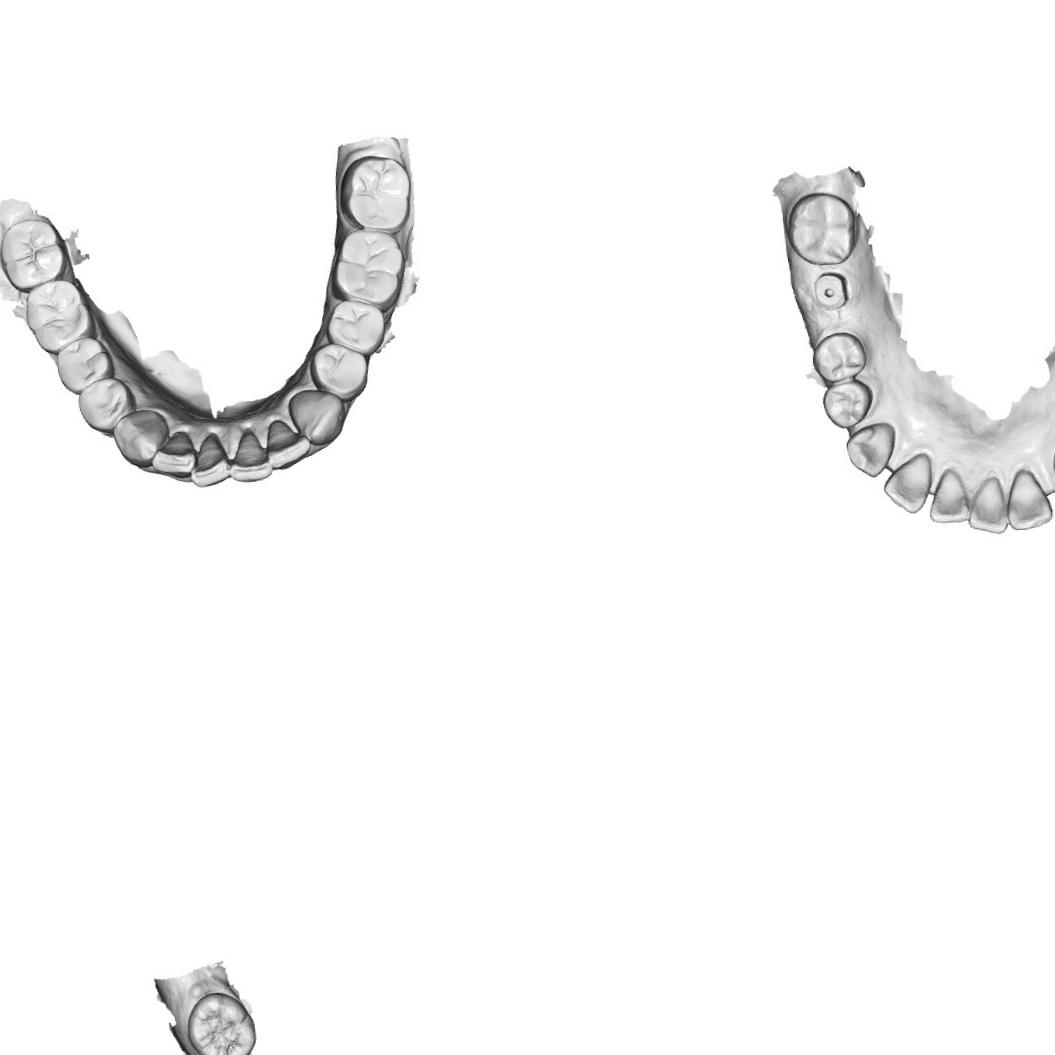canine: (283, 384, 347, 448), (106, 406, 169, 471), (845, 422, 895, 476)
implant: (810, 266, 853, 314)
incisor: (1004, 461, 1054, 533), (883, 455, 938, 518), (965, 466, 1013, 534), (146, 430, 201, 486), (185, 430, 232, 493), (263, 413, 310, 471), (230, 426, 274, 487), (928, 470, 971, 526)
molar: (330, 226, 407, 314), (335, 150, 413, 234), (21, 276, 100, 356), (0, 213, 65, 294), (181, 987, 257, 1055), (792, 192, 858, 265)
premolar: (306, 338, 374, 401), (324, 296, 390, 357), (74, 373, 137, 436), (52, 332, 114, 394), (811, 331, 868, 381), (824, 380, 872, 427)
